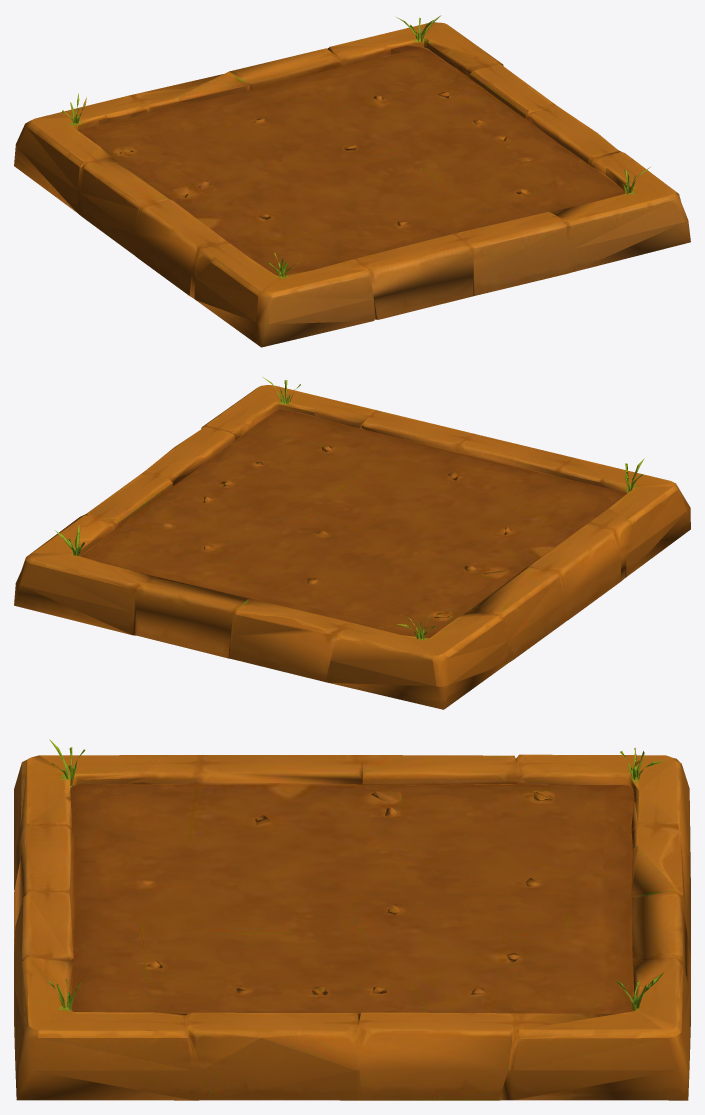
File: plot-tray.glb
3 renders of one model, top to bottom at view 1: azimuth 30°, elevation 25°; view 2: azimuth 150°, elevation 25°; view 3: azimuth 270°, elevation 25°, orthographic. The views are drawn at different scales.
Size of the model in its own units: 1 by 0.1621 by 1.
Materials: 1 (1 with a texture image).
